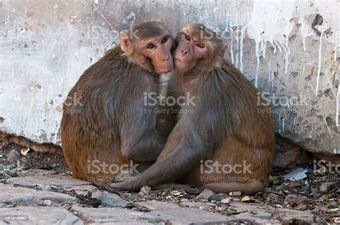monkey: (136, 17, 299, 176), (83, 14, 178, 201)
